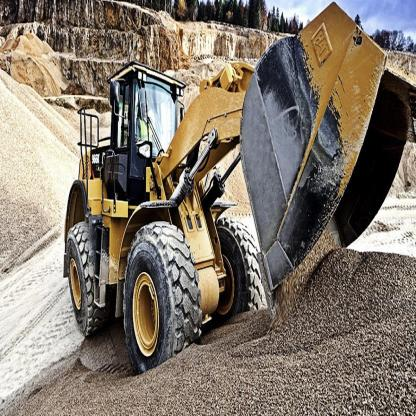bull_dozer/loader/grader: (59, 4, 415, 380)
